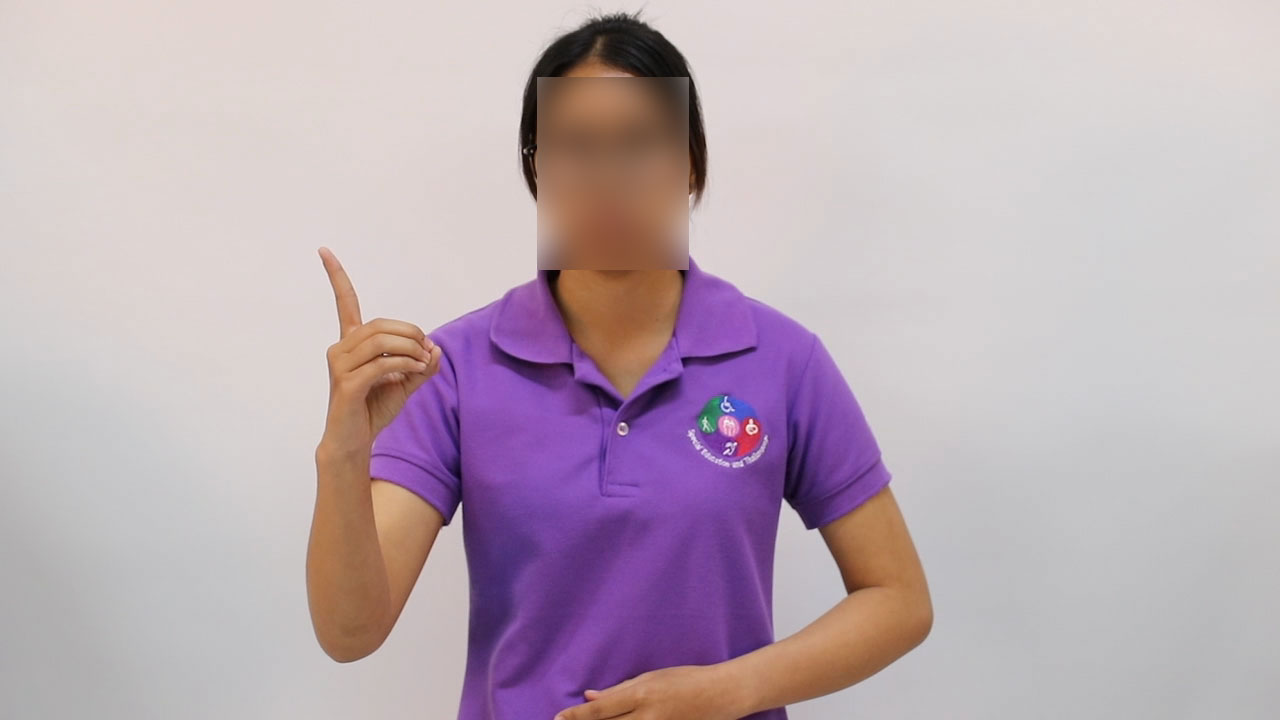dor: (307, 236, 449, 455)
